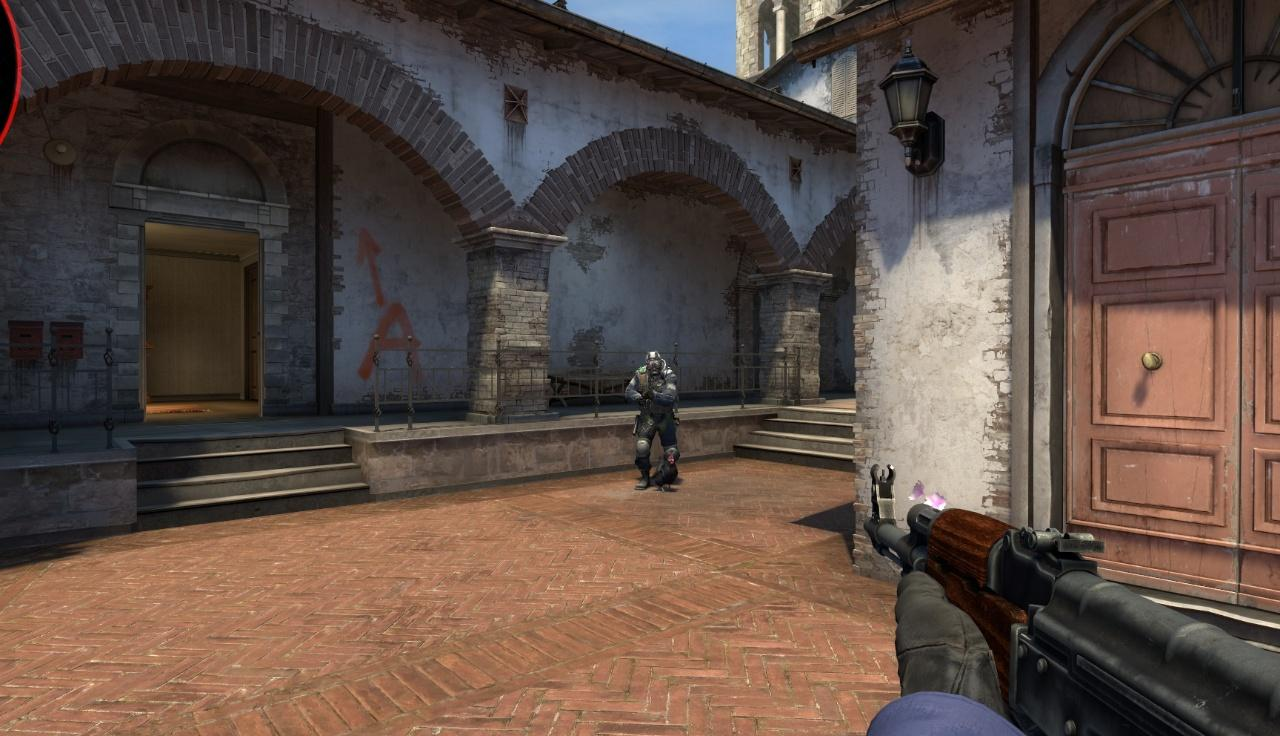ct: (632, 350, 681, 491)
cthead: (645, 352, 663, 376)
rifle: (864, 461, 1280, 736)
